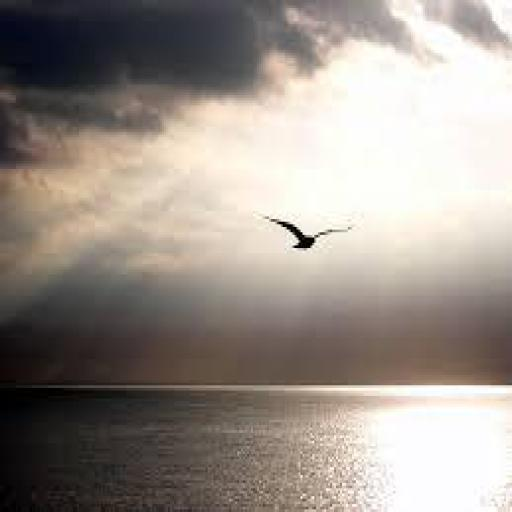birds: (261, 211, 351, 249)
